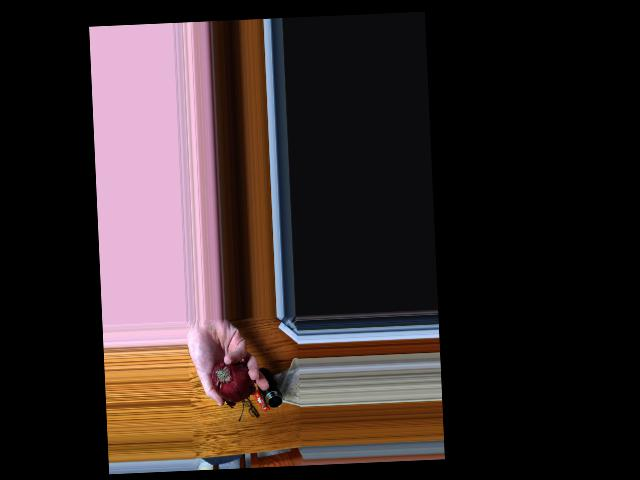onion: (208, 354, 249, 400)
